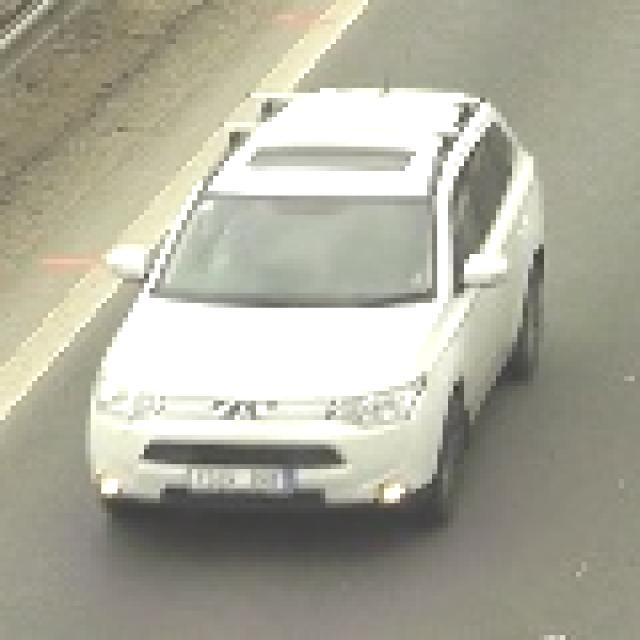SUV: (91, 84, 545, 538)
